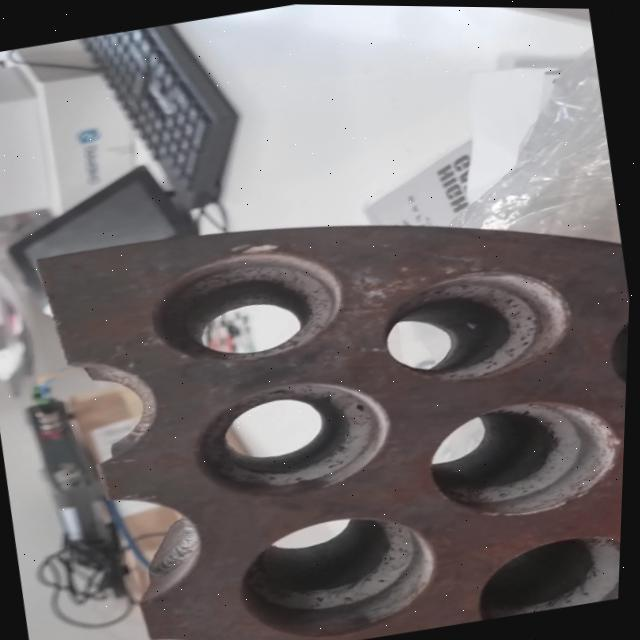Hole: (184, 364, 401, 511), (141, 231, 354, 378), (230, 501, 451, 640), (416, 384, 629, 528), (375, 253, 581, 394), (470, 518, 625, 620)
